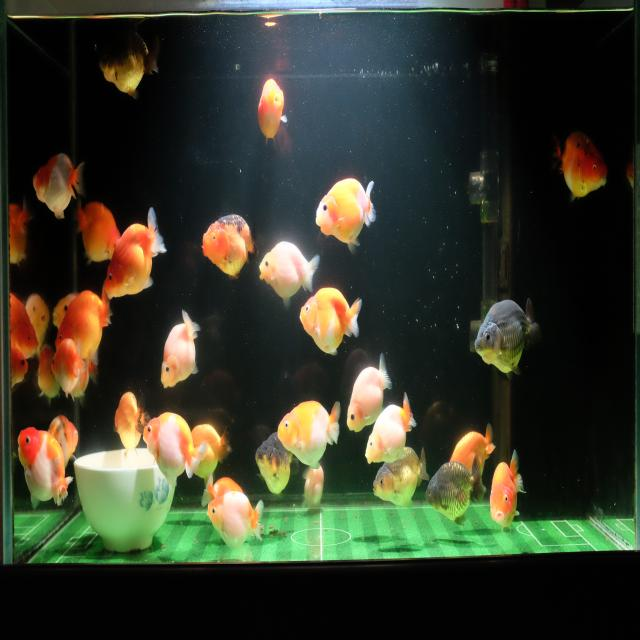Tilapia: (104, 205, 167, 303), (473, 295, 541, 383), (142, 409, 208, 490), (275, 395, 342, 473), (314, 175, 377, 256), (17, 425, 74, 513), (299, 283, 364, 359), (423, 452, 486, 529), (53, 285, 112, 366), (553, 122, 610, 205), (258, 238, 320, 312), (96, 28, 159, 99), (344, 349, 394, 436), (200, 212, 262, 282), (364, 390, 418, 465), (207, 490, 266, 556), (32, 149, 84, 222), (370, 448, 431, 510), (488, 447, 528, 536), (160, 309, 200, 393), (253, 430, 300, 501), (74, 198, 120, 269), (448, 419, 498, 481), (112, 389, 150, 462), (190, 422, 233, 486), (50, 333, 87, 403), (256, 75, 288, 151), (8, 291, 38, 365), (45, 412, 81, 473), (36, 339, 58, 412), (9, 198, 31, 269), (25, 290, 50, 352), (301, 457, 326, 517), (10, 344, 30, 396)
